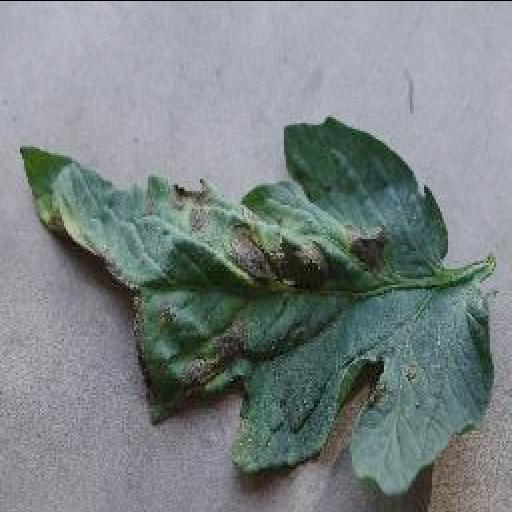disease_tomato: (22, 114, 498, 496)
